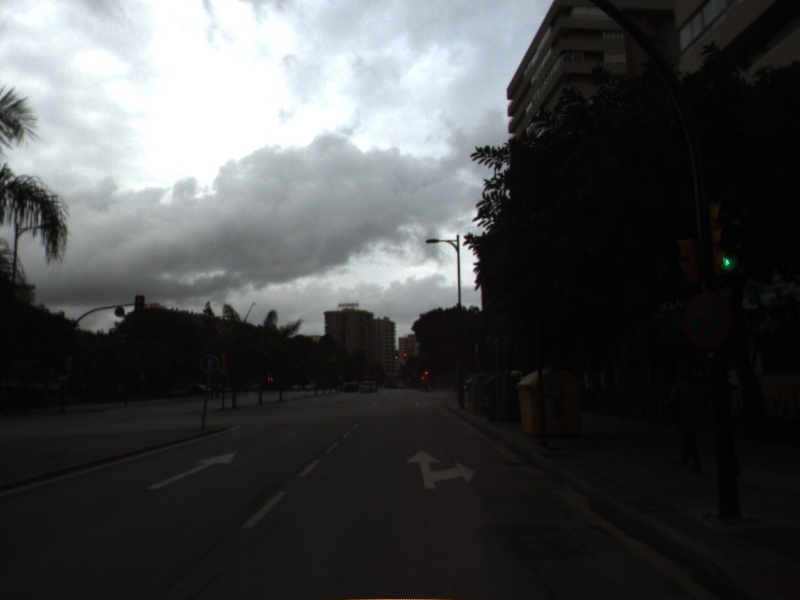STRAIGHT: (144, 449, 240, 492)
STRAIGHT_RIGHT: (404, 447, 478, 491)
